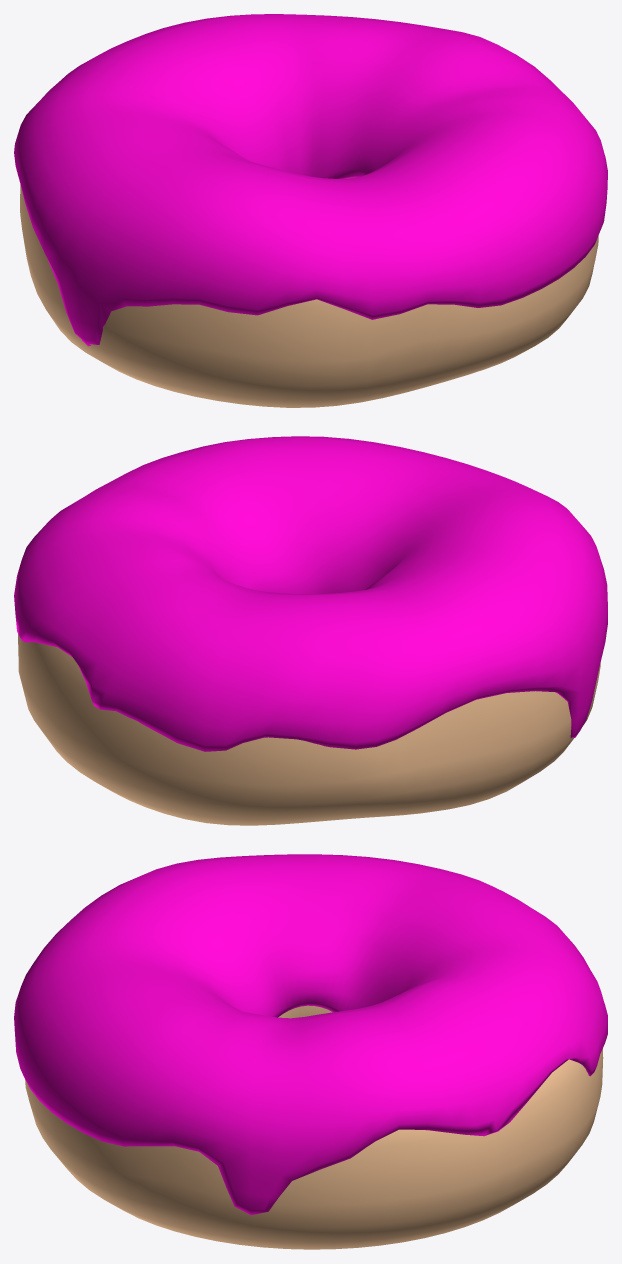
Rendered from do nutv3.glb.
The picture shows the model from 3 angles, top to bottom: view 1: azimuth 30°, elevation 25°; view 2: azimuth 150°, elevation 25°; view 3: azimuth 270°, elevation 25°; orthographic projection.
Parts seen in each view (by area): view 1: DOnut; view 2: DOnut; view 3: DOnut.
Part boxes in pixels (x1,y1,x2,y2): DOnut: (14,14,607,407); DOnut: (14,436,607,825); DOnut: (14,854,607,1249).
Bounding box in the file's own units: 1.23 × 0.5031 × 1.23.
